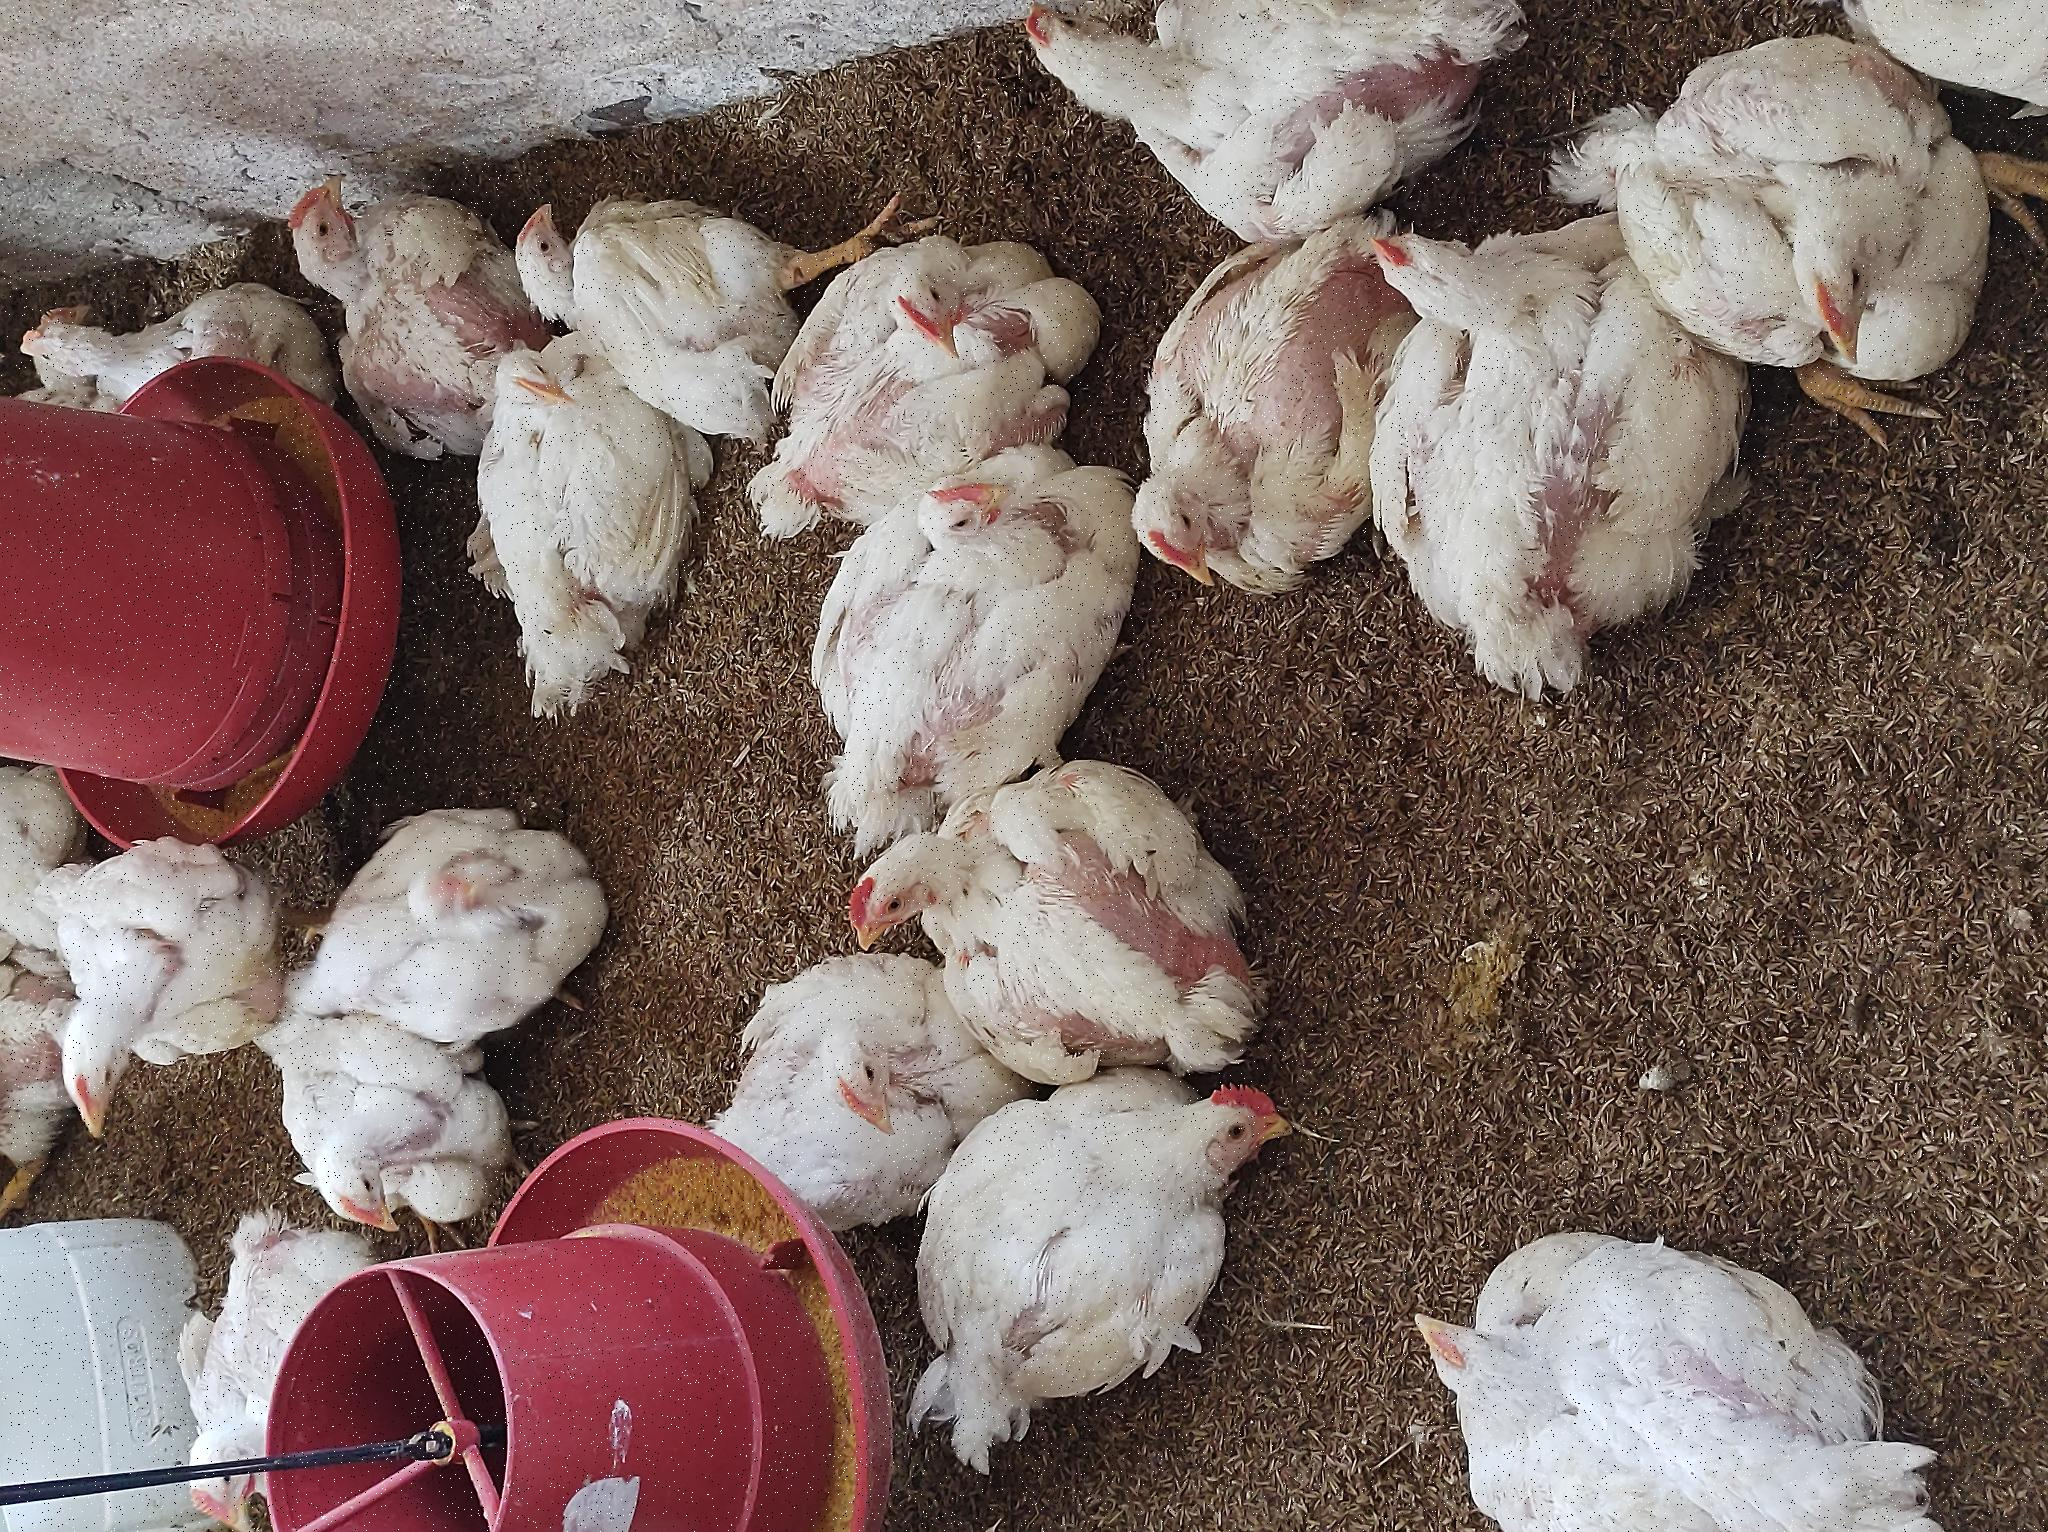Pollos: (444, 842, 798, 1286), (650, 797, 1071, 1155), (90, 904, 454, 1295), (965, 702, 1302, 1069), (1306, 983, 1533, 1497), (915, 1102, 1293, 1394), (264, 644, 582, 975), (857, 406, 1166, 727), (829, 1337, 1332, 1532), (18, 167, 335, 401), (1063, 278, 1387, 504), (386, 55, 709, 275), (504, 303, 732, 599), (1131, 518, 1347, 827), (1096, 24, 1269, 306), (2, 1366, 290, 1532), (304, 283, 492, 499)
